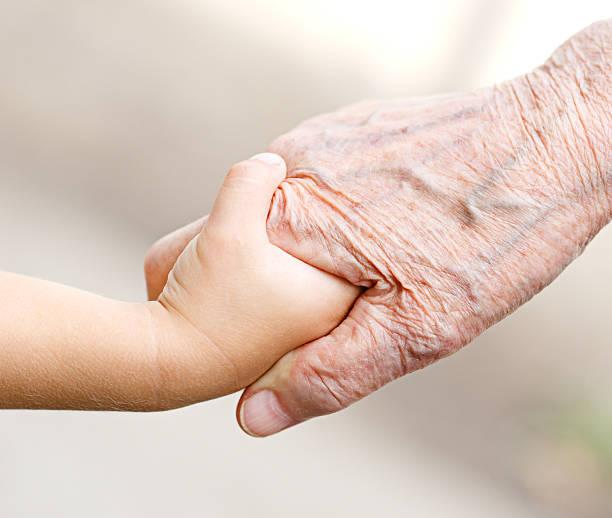Dry-Skin: (306, 92, 580, 284)
